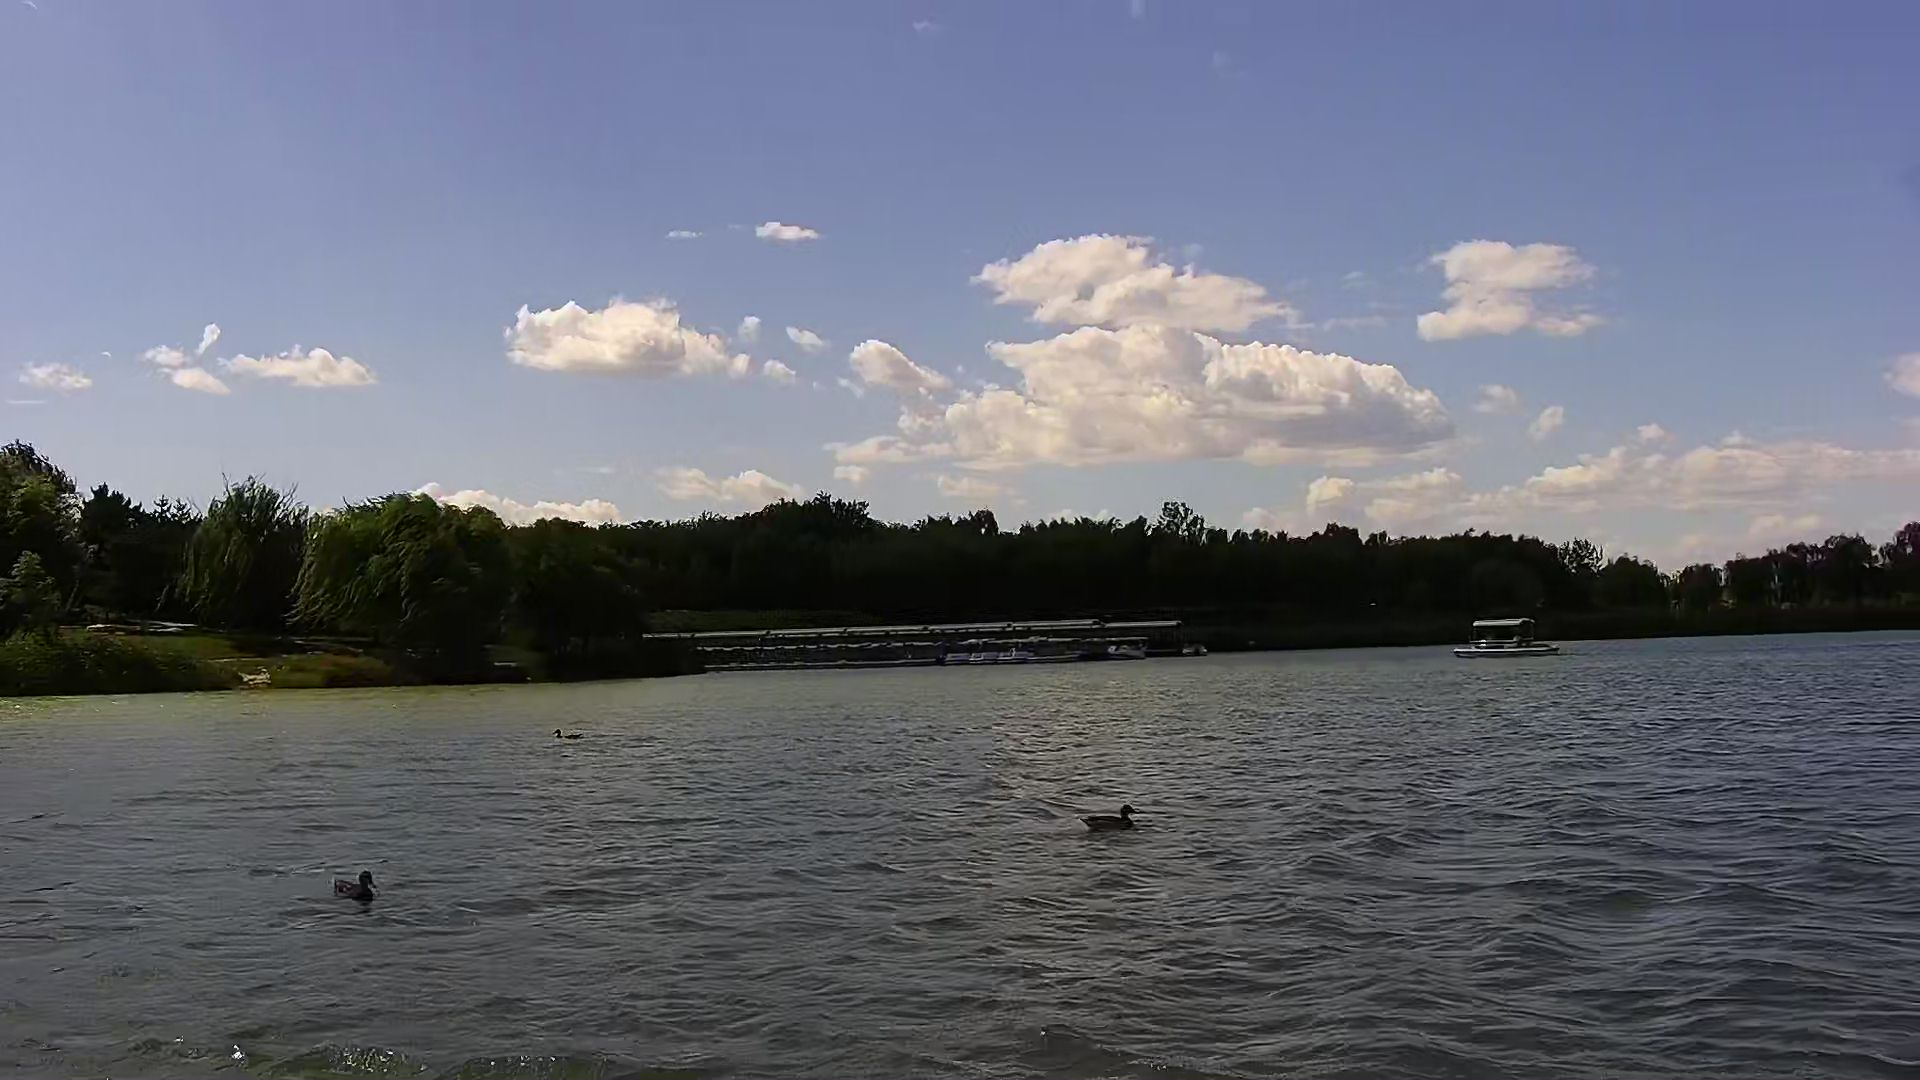animal: (330, 866, 377, 906), (1084, 802, 1139, 831)
boat: (1449, 616, 1557, 665)
harbor: (708, 626, 1185, 665)
rock: (243, 667, 273, 687)
